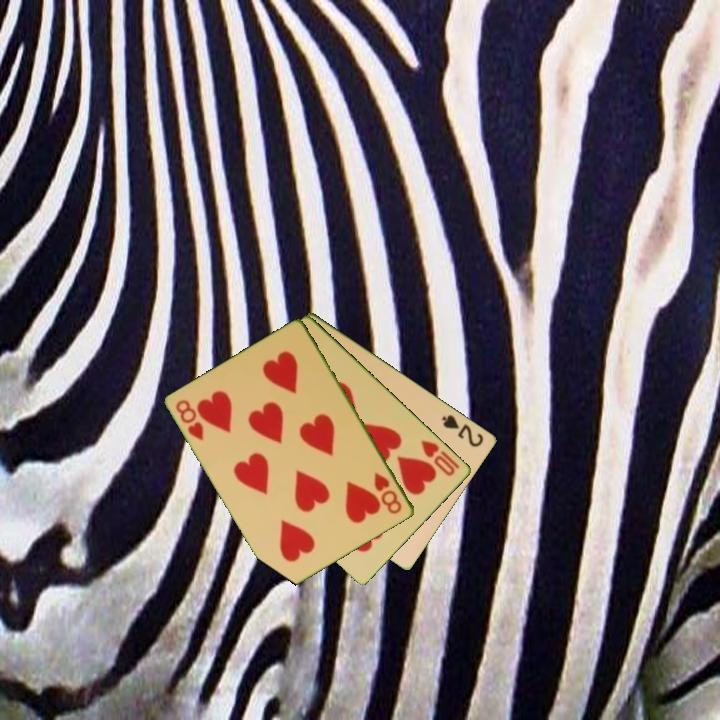10h: (418, 436, 458, 479)
2s: (439, 411, 487, 450)
8h: (172, 396, 207, 444), (371, 469, 405, 517)
